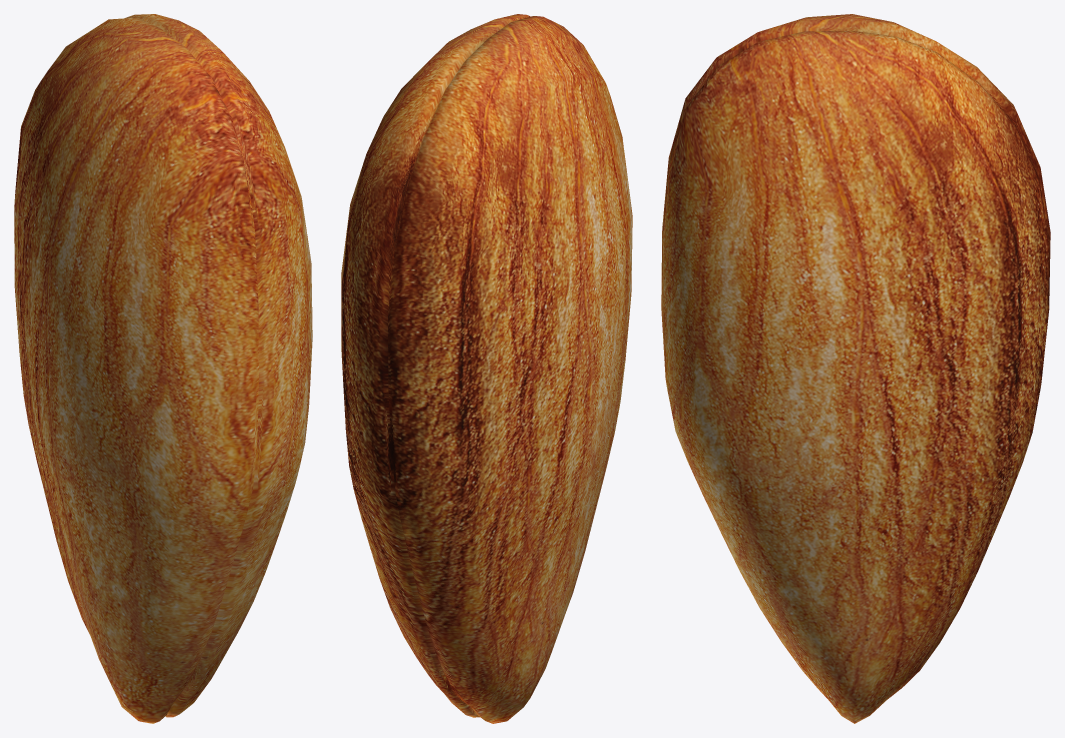
The model's file is almonds.glb.
The picture shows the model from 3 angles, left to right: view 1: azimuth 30°, elevation 25°; view 2: azimuth 150°, elevation 25°; view 3: azimuth 270°, elevation 25°; orthographic projection.
Parts seen in each view (by area): view 1: Box001; view 2: Box001; view 3: Box001.
Boxes of the visible parts, bbox=[...] form: Box001: bbox=[14, 14, 312, 723]; Box001: bbox=[341, 14, 632, 723]; Box001: bbox=[661, 14, 1050, 723].
Size of the model in its own units: 30.16 by 88.19 by 44.75.
1 material, 1 textured.
